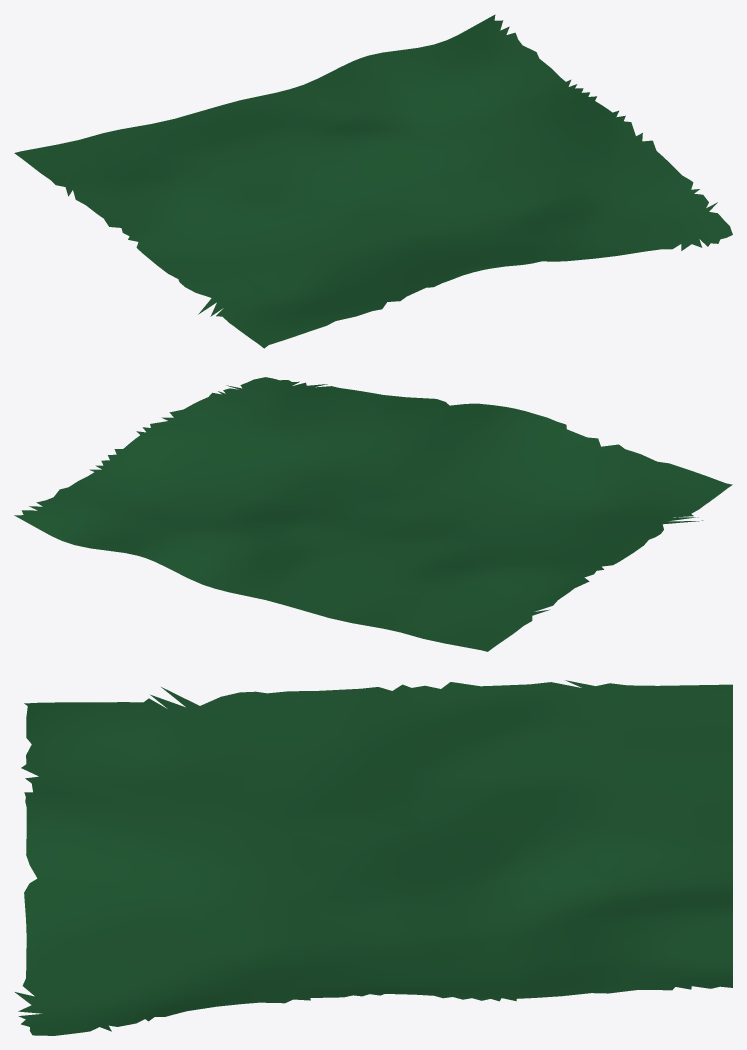
File: payo_land_x2_ym4_lod1.glb
3 views of the same model, one above another, from view 1: azimuth 30°, elevation 25°; view 2: azimuth 150°, elevation 25°; view 3: azimuth 270°, elevation 25° (orthographic). The views are drawn at different scales.
Visible parts, largest first — view 1: payo_land_x2_ym4; view 2: payo_land_x2_ym4; view 3: payo_land_x2_ym4.
Boxes of the visible parts, <box> form: payo_land_x2_ym4: <box>14,14,732,348</box>; payo_land_x2_ym4: <box>14,377,732,651</box>; payo_land_x2_ym4: <box>15,680,732,1035</box>.
Size of the model in its own units: 270 by 21.58 by 235.
